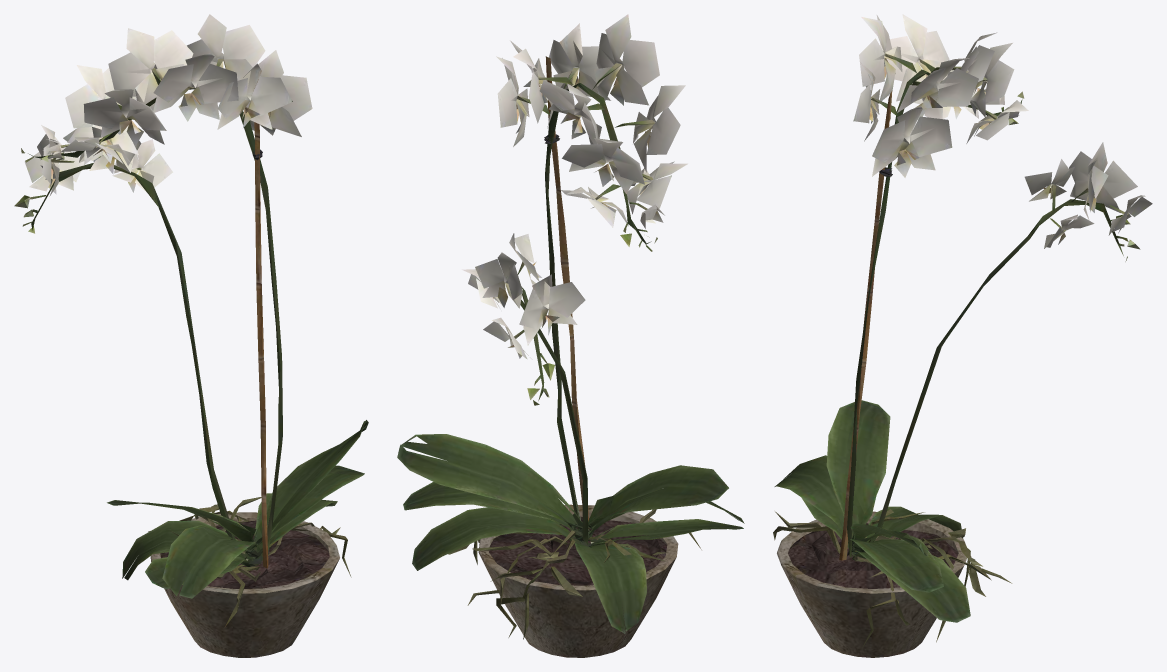
The model's file is Vase0016.obj.
3 renders of one model, left to right at view 1: azimuth 30°, elevation 25°; view 2: azimuth 150°, elevation 25°; view 3: azimuth 270°, elevation 25°, orthographic. The views are drawn at different scales.
Size of the model in its own units: 0.371 by 0.715 by 0.411.
Materials: 1 (1 with a texture image).
